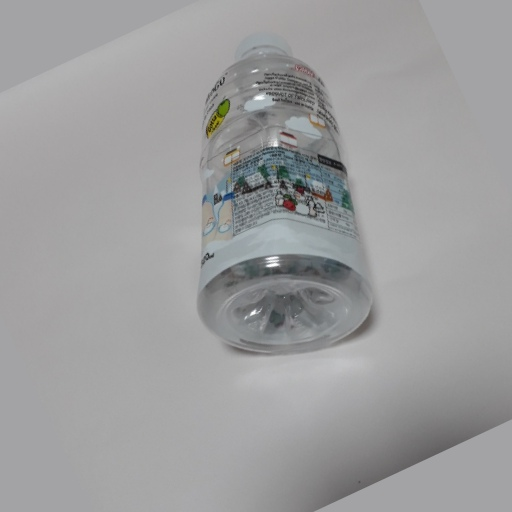Plastic_0: (199, 28, 375, 355)
